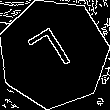L_SE: (27, 24, 80, 83)
